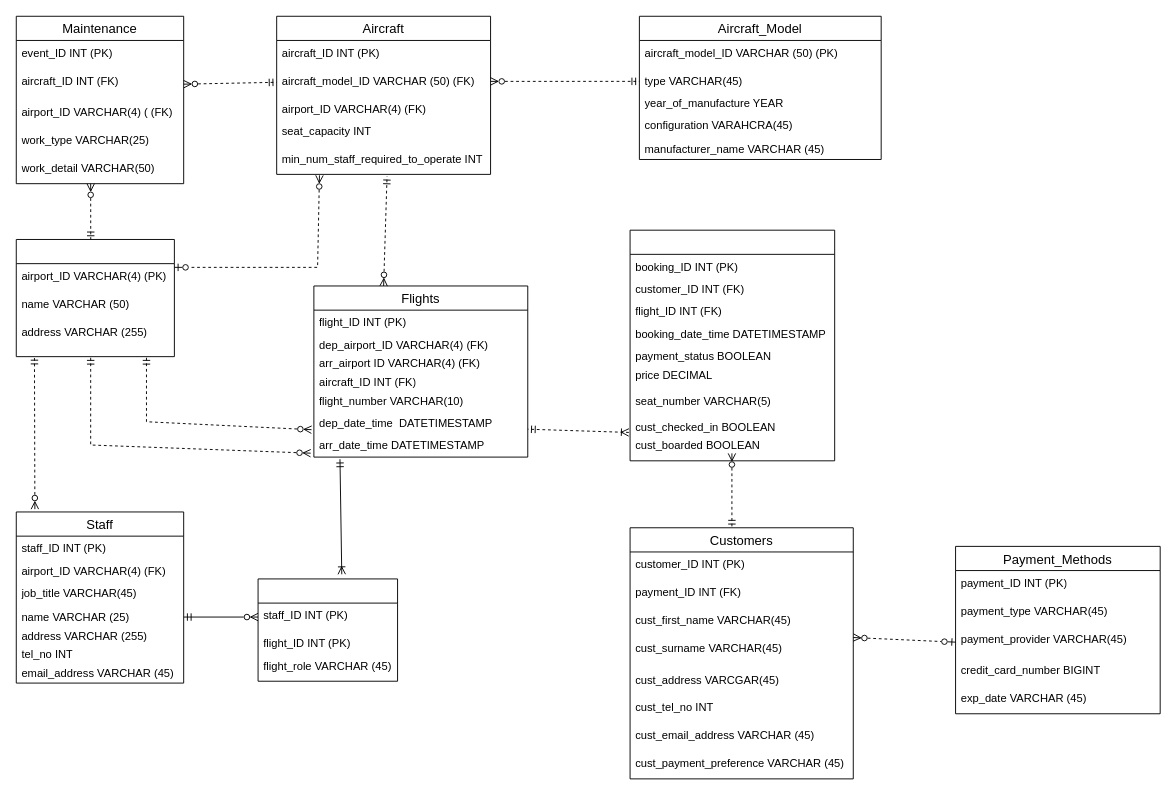
Some shapes in this 1176 by 798 pixel diagram are drawn without their labels. Each missing label, with the box of its shape:
Airports: (15, 239, 174, 357)
Bookings: (629, 229, 835, 461)
Flight_Staff: (257, 578, 398, 681)
